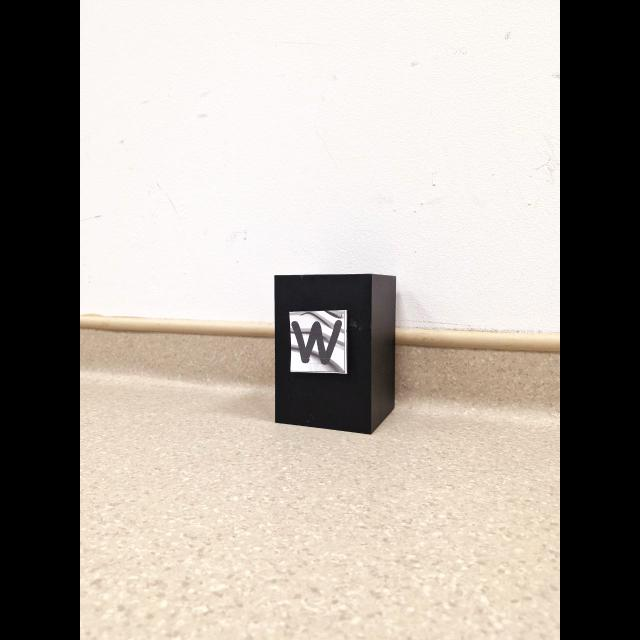W: (292, 320, 342, 364)
